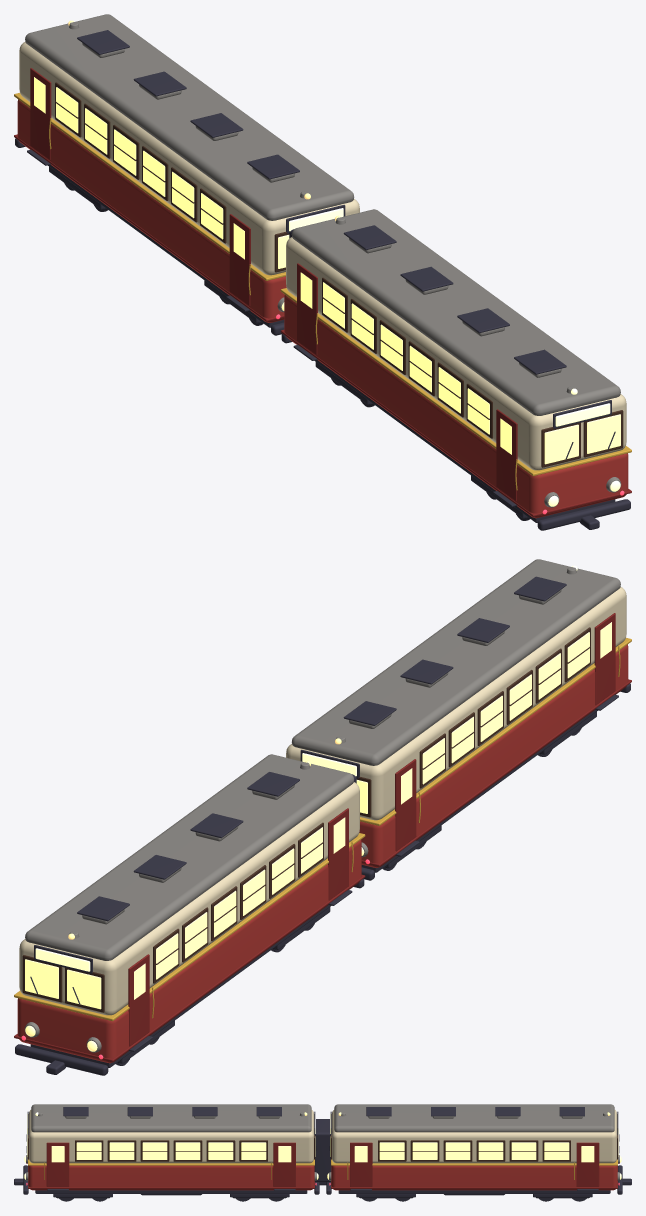
The model's file is train.glb.
3 renders of one model, top to bottom at view 1: azimuth 30°, elevation 25°; view 2: azimuth 150°, elevation 25°; view 3: azimuth 270°, elevation 25°, orthographic. The views are drawn at different scales.
Parts seen in each view (by area): view 1: roof, roof.001, body_low, body_low.001, body_high, body_high.001, belt, belt.001, door.004, door, door.005, door.001 (+26 smaller); view 2: roof.001, roof, body_low.001, body_low, body_high.001, body_high, belt.001, belt, door.001, door.005, door, door.004 (+26 smaller); view 3: roof.001, roof, body_low, body_low.001, body_high, body_high.001, underframe, underframe.001, gangway, door.002, door.007, door.003 (+45 smaller).
Part boxes in pixels (<box>): roof: <box>291,209,620,415</box>; roof.001: <box>25,14,354,220</box>; body_low: <box>284,295,628,518</box>; body_low.001: <box>17,99,286,322</box>; body_high: <box>286,237,626,470</box>; body_high.001: <box>19,42,359,275</box>; belt: <box>280,288,631,476</box>; belt.001: <box>14,92,285,280</box>; door.004: <box>229,214,250,306</box>; door: <box>496,409,517,501</box>; door.005: <box>30,68,51,160</box>; door.001: <box>297,263,317,355</box>; roof.001: <box>25,754,354,960</box>; roof: <box>291,559,620,765</box>; body_low.001: <box>17,840,361,1063</box>; body_low: <box>359,644,628,867</box>; body_high.001: <box>19,782,359,1015</box>; body_high: <box>286,587,626,820</box>; belt.001: <box>14,833,365,1021</box>; belt: <box>360,637,631,825</box>; door.001: <box>395,759,416,851</box>; door.005: <box>128,954,149,1046</box>; door: <box>594,613,615,705</box>; door.004: <box>328,808,348,900</box>; roof.001: <box>334,1104,614,1132</box>; roof: <box>31,1104,311,1132</box>; body_low: <box>28,1165,314,1190</box>; body_low.001: <box>331,1165,617,1190</box>; body_high: <box>28,1110,314,1163</box>; body_high.001: <box>331,1110,617,1163</box>; underframe: <box>35,1190,307,1193</box>; underframe.001: <box>338,1190,610,1193</box>; gangway: <box>314,1119,331,1182</box>; door.002: <box>46,1142,69,1186</box>; door.007: <box>576,1142,599,1186</box>; door.003: <box>273,1142,295,1186</box>.
Size of the model in its own units: 2.96 by 3.83 by 25.9.
